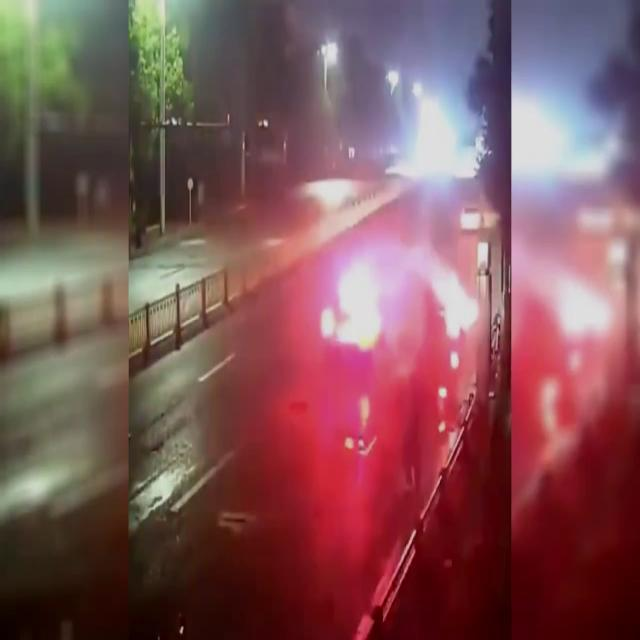accident: (320, 262, 480, 440)
